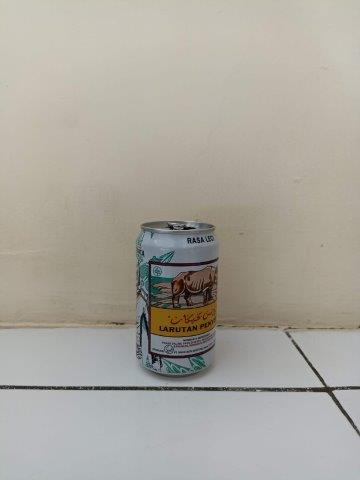kaleng: (135, 221, 216, 377)
